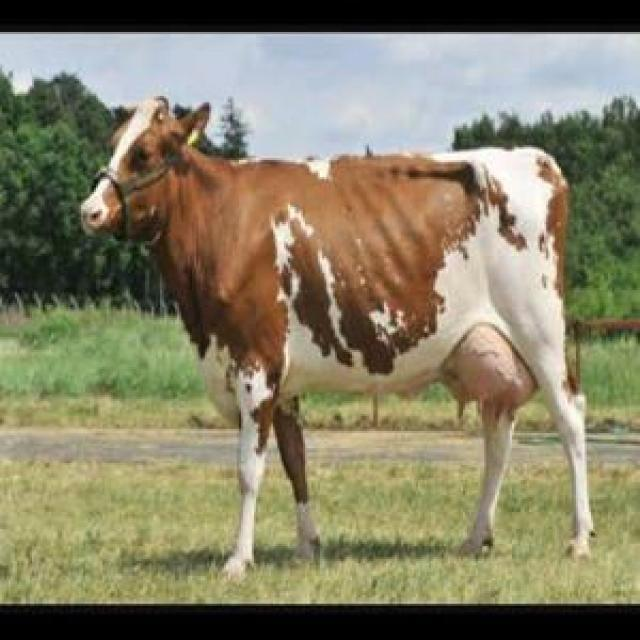cow: (81, 96, 592, 577)
